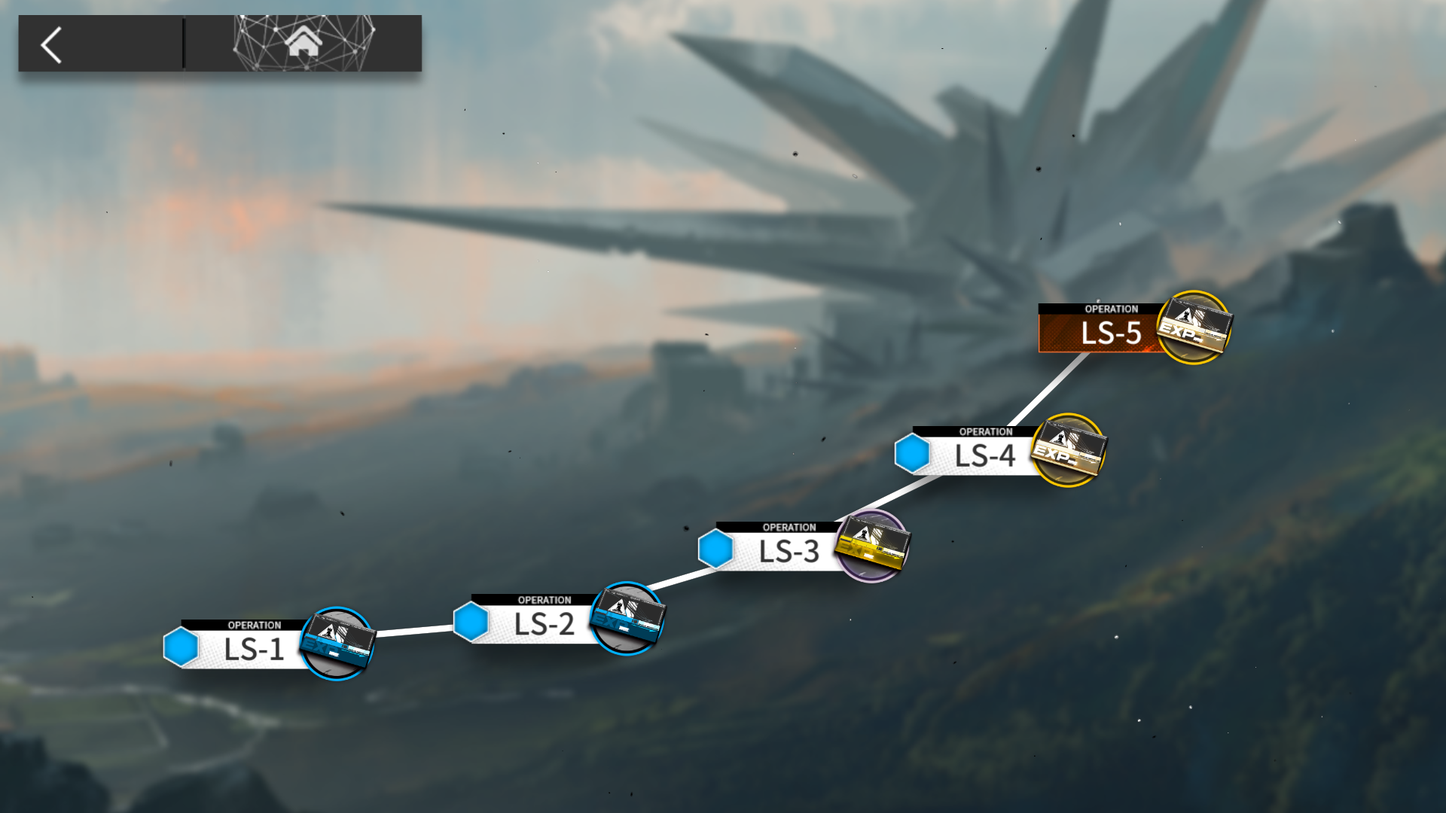LS-5_Button: (1038, 285, 1247, 366)
Return_Button: (18, 17, 132, 67)
